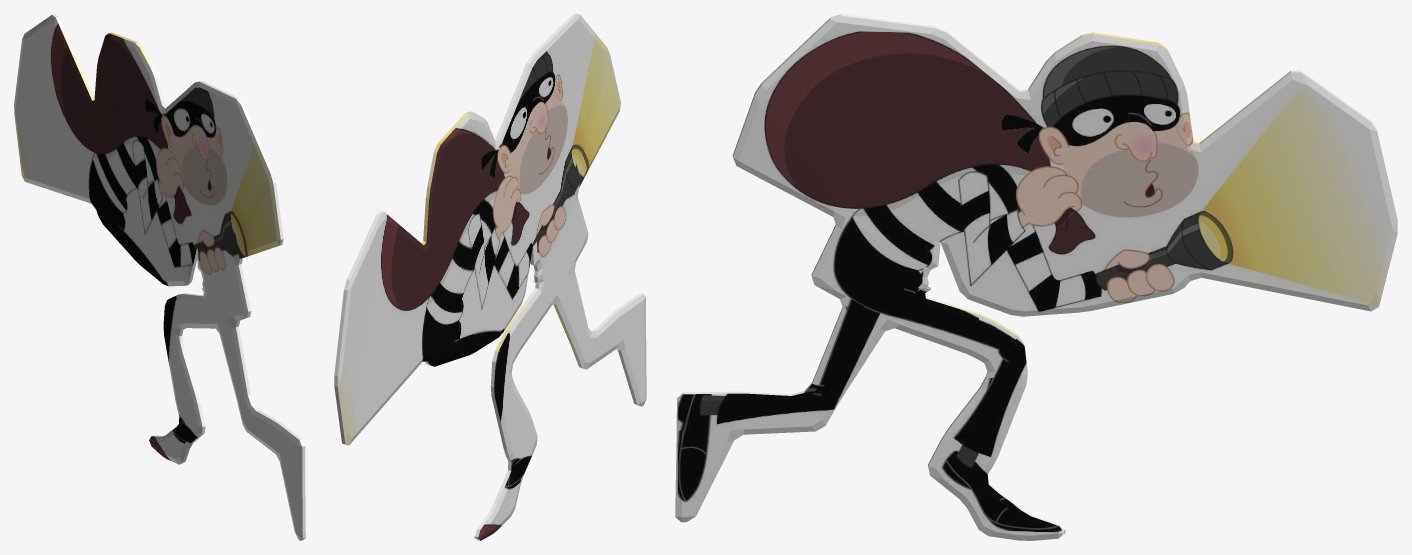
File: voleurproto.fbx
3 views of the same model, side by side, from view 1: azimuth 30°, elevation 25°; view 2: azimuth 150°, elevation 25°; view 3: azimuth 270°, elevation 25° (orthographic). The views are drawn at different scales.
Visible parts, largest first — view 1: Cube; view 2: Cube; view 3: Cube.
Boxes of the visible parts, x1,y1,x2,y2 form: Cube: (14, 14, 305, 540); Cube: (334, 14, 646, 540); Cube: (675, 14, 1397, 540).
Size of the model in its own units: 13.57 by 416 by 518.
